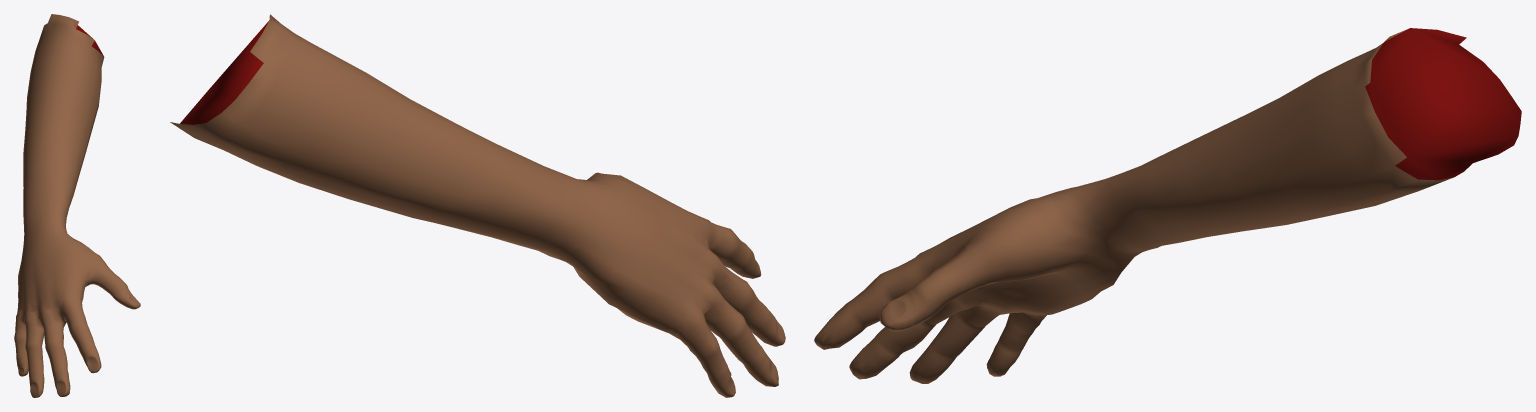
File: SM_Part_M2_arm_r.gltf
3 renders of one model, left to right at view 1: azimuth 30°, elevation 25°; view 2: azimuth 150°, elevation 25°; view 3: azimuth 270°, elevation 25°, orthographic. The views are drawn at different scales.
Parts seen in each view (by area): view 1: SM_Part_M2_arm_r; view 2: SM_Part_M2_arm_r; view 3: SM_Part_M2_arm_r.
Boxes of the visible parts, x1=… form: SM_Part_M2_arm_r: x1=14, y1=14, x2=140, y2=397; SM_Part_M2_arm_r: x1=170, y1=14, x2=785, y2=397; SM_Part_M2_arm_r: x1=814, y1=28, x2=1521, y2=383.
Size of the model in its own units: 0.2264 by 0.2834 by 0.3591.
